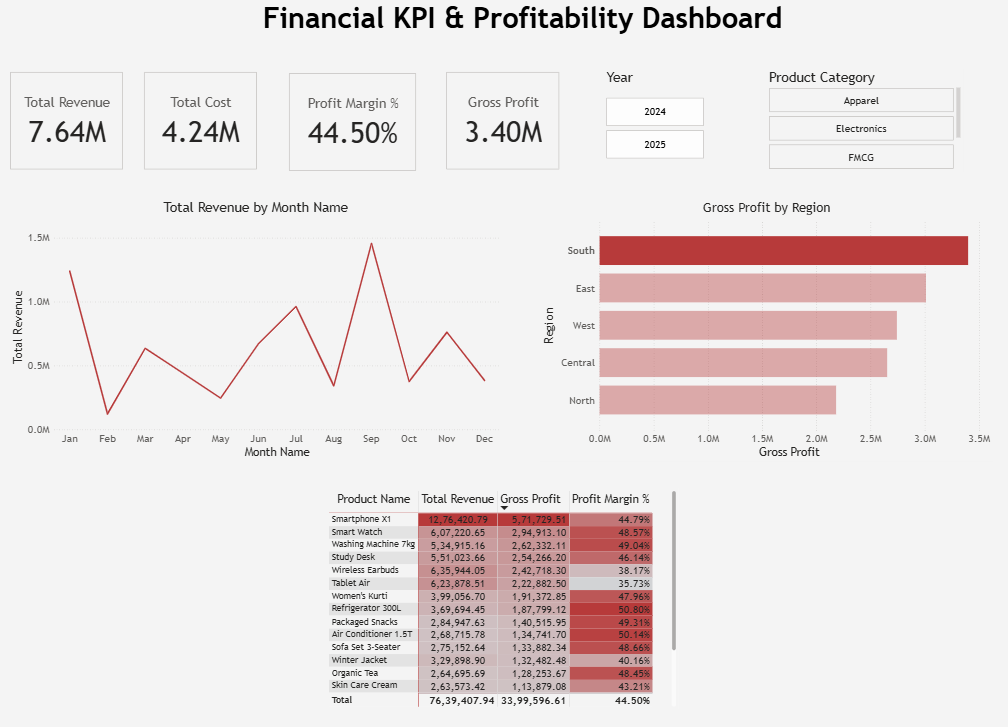

Layout of this report page (visuals, bound fields, positions):
{"tool":"powerbi","page":{"name":"Page 1","canvas":[2000,1800],"ordinal":0},"visuals":[{"type":"cardVisual","fields":{"Data":["_Measures .Total Revenue"]},"box":[35.6,191.1,230,200],"z":0},{"type":"cardVisual","fields":{"Data":["_Measures .Total Cost"]},"box":[297.8,191.1,230,200],"z":1000},{"type":"cardVisual","fields":{"Data":["_Measures .Profit Margin %"]},"box":[580.6,191.7,258.3,200],"z":2000},{"type":"cardVisual","fields":{"Data":["_Measures .Gross Profit"]},"box":[888.9,191.1,230,200],"z":3000},{"type":"lineChart","fields":{"Category":["Date Table.Month Name"],"Y":["_Measures .Total Revenue"]},"box":[40,445,962.5,510],"z":4000},{"type":"clusteredBarChart","fields":{"Category":["Financial_KPI_Data.Region"],"Y":["_Measures .Gross Profit"]},"box":[1075,444.4,883.3,511.1],"z":5000},{"type":"advancedSlicerVisual","fields":{"Values":["Date Table.Year"]},"box":[1200,190.3,200,200],"z":6000},{"type":"advancedSlicerVisual","fields":{"Values":["Financial_KPI_Data.Product Category"]},"box":[1516.1,190.3,383.9,200],"z":7000},{"type":"pivotTable","fields":{"Rows":["Financial_KPI_Data.Product Name"],"Values":["_Measures .Total Revenue","_Measures .Gross Profit","_Measures .Profit Margin %"]},"box":[659.4,1006.2,687.5,431.2],"z":8000},{"type":"textbox","box":[528.2,51.3,1061.5,84.6],"z":10000}]}

Visuals, with their boxes on the page's 2000x1800 design canvas (x1, y1, x2, y2). These are canvas units, not pixel positions in the 1008x727 screenshot, which may show the page scaled, cropped or inside an application window:
cardVisual - _Measures .Total Revenue: 36:191:266:391
cardVisual - _Measures .Total Cost: 298:191:528:391
cardVisual - _Measures .Profit Margin %: 581:192:839:392
cardVisual - _Measures .Gross Profit: 889:191:1119:391
lineChart - Date Table.Month Name x _Measures .Total Revenue: 40:445:1002:955
clusteredBarChart - Financial_KPI_Data.Region x _Measures .Gross Profit: 1075:444:1958:956
advancedSlicerVisual - Date Table.Year: 1200:190:1400:390
advancedSlicerVisual - Financial_KPI_Data.Product Category: 1516:190:1900:390
pivotTable - Financial_KPI_Data.Product Name x _Measures .Total Revenue: 659:1006:1347:1437
textbox: 528:51:1590:136
